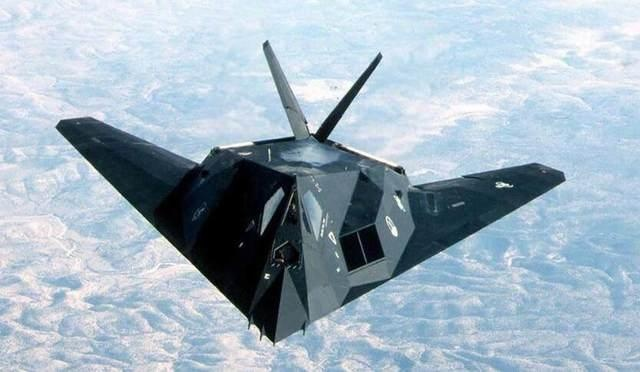airplane: (54, 37, 571, 347)
